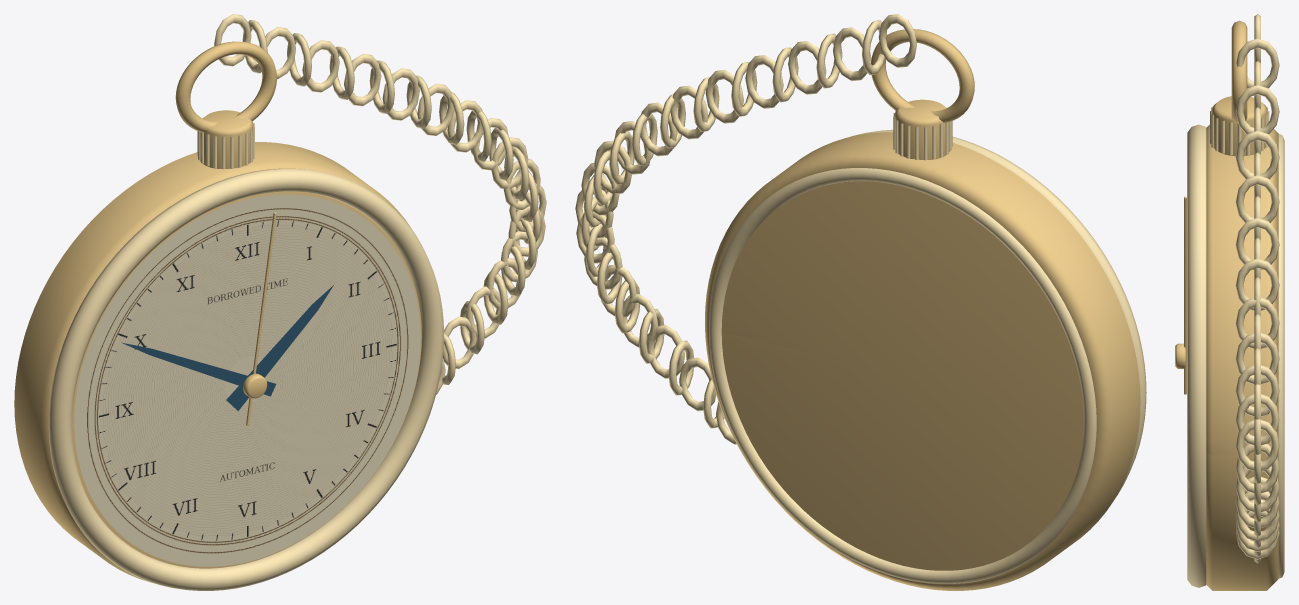
File: gold-pocket-watch.glb
3 views of the same model, side by side, from view 1: azimuth 30°, elevation 25°; view 2: azimuth 150°, elevation 25°; view 3: azimuth 270°, elevation 25° (orthographic). The views are drawn at different scales.
Parts seen in each view (by area): view 1: Borrowed Time; view 2: Borrowed Time; view 3: Borrowed Time.
Part boxes in pixels (left/top/right/bottom): Borrowed Time: left=14, top=14, right=546, bottom=590; Borrowed Time: left=575, top=14, right=1146, bottom=590; Borrowed Time: left=1175, top=14, right=1284, bottom=590.
Bounding box in the file's own units: 0.1036 × 0.1029 × 0.0182.
4 materials, 1 textured.
